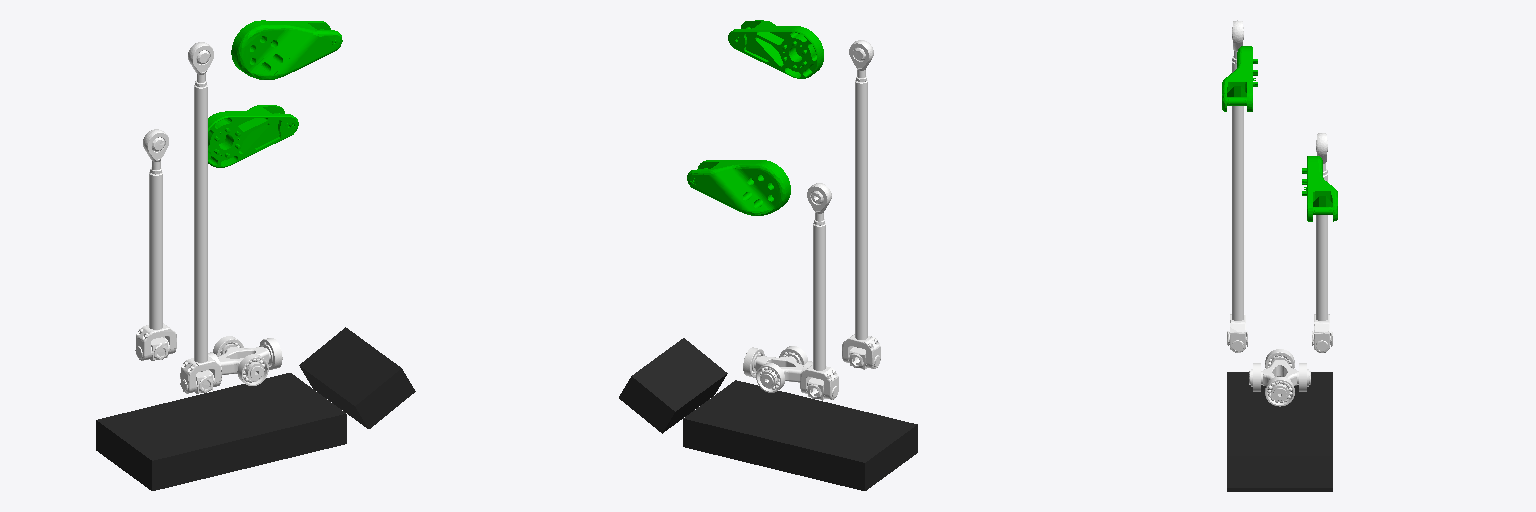
The robot description file, URDF, robot "DHAL":
<?xml version='1.0' encoding='utf-8'?>
<robot name="DHAL" xmlns:xacro="http://www.ros.org/wiki/xacro">
    <!--
  CURRENT CALIBRATION 2026-10-08: measured whole robot 17.100 kg.
  L_leg 10.420 kg, measured upper INCLUDING switch/cables 2.550 kg,
  measured battery 3.100 kg. Lower EXCLUDING battery inferred by subtraction
  = 1.030 kg, consisting of known 0.642 kg and unknown residual 0.388 kg.
  Complete lower = 4.130 kg; Body_Nature = 6.680 kg.
  Previous whole-robot global multiplier is REMOVED. Battery and measured leg
  are preserved. Residual 0.388 kg is separately recorded and distributed
  proportionally over known NONBATTERY lower mass priors only. This does not
  identify the missing hardware or independently measure the lower assembly.
  Upper internal residual now 0.211 kg is already inside its 2.550 kg total.
  Upper COM retained at -0.00598086124402 0.00904413219869 0.162821968949 m by assumption:
  added 22 g location is unmeasured. Upper central CAD tensor recomputed;
  Body COM and central tensor recombined by the parallel-axis theorem.
  CAD/straight cable priors, finite support-line and Z-datum uncertainties
  remain. No joint/nominal/rotor/limit/collision/mesh changes in this revision.
  See calibration/lower_residual_mass_allocation.json and nature_mass_model.json.
-->
    <material name="black">
        <color rgba="0.0 0.0 0.0 1.0" />
    </material>
    <material name="blue">
        <color rgba="0.0 0.0 0.8 1.0" />
    </material>
    <material name="green">
        <color rgba="0.0 0.8 0.0 1.0" />
    </material>
    <material name="grey">
        <color rgba="0.2 0.2 0.2 1.0" />
    </material>
    <material name="silver">
        <color rgba="0.913725490196 0.913725490196 0.847058823529 1.0" />
    </material>
    <material name="orange">
        <color rgba="1.0 0.423529411765 0.0392156862745 1.0" />
    </material>
    <material name="brown">
        <color rgba="0.870588235294 0.811764705882 0.764705882353 1.0" />
    </material>
    <material name="red">
        <color rgba="0.8 0.0 0.0 1.0" />
    </material>
    <material name="white">
        <color rgba="1.0 1.0 1.0 1.0" />
    </material>
    <link name="Thigh">
        <!-- NATURE 2026-10-01: L_leg proportional correction 1.000799913507194218; previous effective mass 4.554682270893658363 kg. COM unchanged, all six central tensor entries scaled with mass. -->
        <!-- LEGACY baseline distribution: Thigh repartition remains pending.
             2026-09-16: received input assembly, long link, six M5 bolts,
             two output-fixed CUG pins, and YT2015 bearing properties.
             Reported assembly poses differ from the earlier STEP reference;
             CUG4-10 <2> duplicated <3>, now corrected by the user;
             physical output pins are <3>/<4> (2.10 g total).
             Reconcile poses and rigid-body boundaries before repartition.
             See calibration/thigh_partition_20260916.json and .md.
             This historical partition note does not supply new baseline values. -->
        <visual>
            <origin rpy="0 0 0" xyz="0 0 0" />
            <geometry>
                <mesh filename="URDF_Thigh_with_Link_verHopping1_Simplified.dae" scale="1 1 1" />
            </geometry>
            <material name="grey" />
        </visual>
        <collision>
            <origin rpy="0 0 0" xyz="0 -0.04 -0.14" />
            <geometry>
                <box size="0.1 0.02 0.26" />
            </geometry>
        </collision>
        <collision>
            <origin rpy="0 0 0" xyz="0 0.06 -0.14" />
            <geometry>
                <box size="0.1 0.06 0.26" />
            </geometry>
        </collision>
        <inertial>
            <origin rpy="0 0 0" xyz="0.001815 0.027609 -0.115412" />
            <mass value="4.558325622763124235" />
            <inertia ixx="0.081938831543031790928552" ixy="-0.000031874545465390997509" ixz="-0.001379105333802583825535" iyy="0.080967720391186211871125" iyz="-0.013694367216780818896241" izz="0.015772587581124311933796" />
        </inertial>
    </link>
    <joint name="00_knee_joint" type="revolute">
        <origin rpy="0 0 0" xyz="0 0 -0.2523" />
        <parent link="Thigh" />
        <child link="Calf" />
        <axis xyz="0 1 0" />
        <!-- PROVISIONAL D151 output-axis equivalent inertia:
             motor/sun/encoder ring and two sun-locking LPSTAG pins at 20x;
             carrier, four carrier-locking LPSTAG pins, and eight carrier-fixed
             fasteners (4x M3_10 + 4x M4_12) at 5x;
             four compound planets (26.4 mm orbit at 5x and spin at -10x),
             the clean three-part output group and two output-fixed LPSTAG pins
             at 1x, and the exact orbital term of eight MTA planet bearings at 5x.
             Bearing race/cage/ball self-rotation and remaining output-side fasteners
             remain pending; the mixed 201.80 g 4-C selection is excluded. -->
        <dynamics rotor_inertia="0.37825873418" damping="0" friction="0" />
        <!-- PROVISIONAL measured motor-side envelope: the static test reached
             27.5166 N*m (mean absolute CW/CCW endpoint) at 110 A and stopped
             before the true peak. effort=550.3 N*m uses 27.5166*20 without
             gearbox-efficiency derating;
             velocity=10.11 rad/s retains the 65.1 V estimate pending speed/Kv data. -->
        <limit effort="550.3" velocity="10.11" lower="0" upper="2.26893" />
    </joint>
    <link name="Calf">
        <!-- NATURE 2026-10-01: L_leg proportional correction 1.000799913507194218; previous effective mass 3.630464754956549052 kg. COM unchanged, all six central tensor entries scaled with mass. -->
        <visual>
            <origin rpy="0 0 0" xyz="0 0 0" />
            <geometry>
                <mesh filename="URDF_Calf_verHopping1_Simplified.dae" scale="1 1 1" />
            </geometry>
            <material name="grey" />
        </visual>
        <collision>
            <origin rpy="0 0 0" xyz="0 0 -0.205" />
            <geometry>
                <box size="0.1 0.048 0.32" />
            </geometry>
        </collision>
        <!-- PROVISIONAL CAD occurrence boundary: COM-centered SolidWorks tensor,
             converted from positive-product notation into the URDF link frame. -->
        <inertial>
            <origin rpy="0 0 0" xyz="0.003950 0.000010 -0.144090" />
            <mass value="3.633368812751431343" />
            <inertia ixx="0.033405635176879234503787" ixy="-0.000001624454335098186797" ixz="-0.000799580091647820443157" iyy="0.036689444625636574247428" iyz="0.000912665315914783351184" izz="0.005040104298794931677072" />
        </inertial>
    </link>
    <joint name="01_ankle_pitch_joint" type="revolute">
        <origin rpy="0 0 0" xyz="0 0 -0.41" />
        <parent link="Calf" />
        <child link="Universal" />
        <axis xyz="0 1 0" />
        <limit lower="-0.872665" upper="0.698132" />
    </joint>
    <link name="Universal">
        <!-- NATURE 2026-10-01: L_leg proportional correction 1.000799913507194218; previous effective mass 0.222483794525813485 kg. COM unchanged, all six central tensor entries scaled with mass. -->
        <visual>
            <origin rpy="0 0 0" xyz="0 0 0" />
            <geometry>
                <mesh filename="URDF_Universal_verHopping1_Simplified.dae" scale="1 1 1" />
            </geometry>
            <material name="white" />
        </visual>
        <!-- CONFIRMED four-bearing Universal assembly. SolidWorks default X/Y
             map to URDF Y/X; the old ixx=0.00048 was a decimal-place error. -->
        <inertial>
            <origin rpy="0 0 0" xyz="0 0 0" />
            <mass value="0.222661762318186506" />
            <inertia ixx="0.000050839995640935037199" ixy="0.000000000000000000000000" ixz="0.000000000000000000000000" iyy="0.000094595257310974594309" iyz="0.000000000000000000000000" izz="0.000131384464567734810478" />
        </inertial>
    </link>
    <joint name="02_ankle_roll_joint" type="revolute">
        <origin rpy="0 0 0" xyz="0 0 0" />
        <parent link="Universal" />
        <child link="Foot" />
        <axis xyz="1 0 0" />
        <limit lower="-0.523599" upper="0.523599" />
    </joint>
    <link name="Foot">
        <!-- NATURE 2026-10-01: L_leg proportional correction 1.000799913507194218; previous effective mass 1.106072514819988164 kg. COM unchanged, all six central tensor entries scaled with mass. -->
        <!--        <visual>-->
        <!--            <origin rpy="0 0 0" xyz="0 0 0"/>-->
        <!--            <geometry>-->
        <!--                <mesh filename="URDF_Foot_verHopping1_Simplified.dae" scale="1 1 1"/>-->
        <!--            </geometry>-->
        <!--            <material name="grey"/>-->
        <!--        </visual>-->
        <!--        <collision>-->
        <!--            <origin rpy="0 0 0" xyz="0 0 -0.065"/>-->
        <!--            <geometry>-->
        <!--&lt;!&ndash;                <box size="0.24 0.08 0.03"/>&ndash;&gt;-->
        <!--                <box size="0.265 0.10 0.03"/>-->
        <!--            </geometry>-->
        <!--        </collision>-->
        <!--        <inertial>-->
        <!--            <origin rpy="0 0 0" xyz="-0.014103 -0.0000 -0.044208"/>-->
        <!--&lt;!&ndash;            <mass value="0.899532"/>&ndash;&gt;-->
        <!--            <mass value="1.0"/>-->
        <!--&lt;!&ndash;            <inertia ixx="0.002914" ixy="0.000001" ixz="0.000081" iyy="0.005654" iyz="0" izz="0.003715"/>&ndash;&gt;-->
        <!--            <inertia ixx="0.0032" ixy="0.000001" ixz="0.0001" iyy="0.005654" iyz="0" izz="0.0040"/>-->
        <!--        </inertial>-->
        <visual>
            <origin rpy="0 0 0" xyz="-0.02 0 -0.065" />
            <geometry>
                <box size="0.20 0.1 0.03" />
            </geometry>
            <material name="grey" />
        </visual>
        <visual>
            <origin rpy="0 -0.5 0" xyz="0.12 0 -0.045" />
            <geometry>
                <box size="0.055 0.1 0.03" />
            </geometry>
            <material name="grey" />
        </visual>
        <collision>
            <origin rpy="0 0 0" xyz="-0.02 0 -0.065" />
            <geometry>
                <box size="0.20 0.1 0.03" />
            </geometry>
        </collision>
        <collision>
            <origin rpy="0 -0.5 0" xyz="0.12 0 -0.045" />
            <geometry>
                <box size="0.055 0.1 0.03" />
            </geometry>
        </collision>
        <!-- CONFIRMED measurement scope: 0.837 kg includes foot_2, eight bolts,
             and the attached tire/rubber outsole. Bolts alone weigh 0.048 kg;
             0.789 kg therefore means foot_2 PLUS outsole, not the bare part.
             Baseline Foot mass = 0.929141 - 0.724284 + 0.837 = 1.041857 kg.
             Do not add outsole mass again. The 0.112716 kg CAD-to-measured
             difference is not an independent measurement of outsole mass.
             PROVISIONAL COM/tensor: earlier mass-distribution estimate retained.
             Outsole distribution and CAD-report-to-link frame remain to be
             reconciled; outsole presence alone does not determine a new COM.
             Existing collision boxes retain their 6.35 mm sole allowance. -->
        <inertial>
            <origin rpy="0 0 0" xyz="0.00320582 -0.00032194 -0.03596666" />
            <mass value="1.106957277164528949" />
            <inertia ixx="0.001479457803390062807205" ixy="-0.000019588671913331852938" ixz="-0.000229993832137044931594" iyy="0.005999883220989382134718" iyz="-0.000012112252902909159808" izz="0.006205220243485310137062" />
        </inertial>
    </link>
    <joint name="03_left_ankle_link_pitch_joint" type="continuous">
        <origin rpy="0 0 0" xyz="-0.0640125 0.04 0.0112871" />
        <parent link="Foot" />
        <child link="Left_Dice" />
        <axis xyz="0 1 0" />
    </joint>
    <link name="Left_Dice">
        <!-- NATURE 2026-10-01: L_leg proportional correction 1.000799913507194218; previous effective mass 0.040250853357884077 kg. COM unchanged, all six central tensor entries scaled with mass. -->
        <visual>
            <origin rpy="0 0 0" xyz="0 0 0" />
            <geometry>
                <mesh filename="URDF_Calf_Link_Dice_verHopping1_Simplified.dae" scale="1 1 1" />
            </geometry>
            <material name="white" />
        </visual>
        <inertial>
            <origin rpy="0 0 0" xyz="0 0 0" />
            <mass value="0.040283050559161142" />
            <inertia ixx="0.000002124969697692733167" ixy="0.000000000000000000000000" ixz="0.000000000000000000000000" iyy="0.000004249939395385466335" iyz="0.000000000000000000000000" izz="0.000004249939395385466335" />
        </inertial>
    </link>
    <joint name="04_left_ankle_link_roll_joint" type="continuous">
        <origin rpy="0 0 0" xyz="0 0 0" />
        <parent link="Left_Dice" />
        <child link="Left_Ankle_Link" />
        <axis xyz="1 0 0" />
    </joint>
    <link name="Left_Ankle_Link">
        <!-- NATURE 2026-10-01: L_leg proportional correction 1.000799913507194218; previous effective mass 0.228403731934666190 kg. COM unchanged, all six central tensor entries scaled with mass. -->
        <!-- 2026-09-14: V1 mesh endpoint separation matches supplied STEP and
             physical measurement: 202 mm. Same mesh frame and scale as before. -->
        <visual>
            <origin rpy="0 0 0" xyz="0 0 0" />
            <geometry>
                <mesh filename="URDF_Calf_Link_S_verV1_simplified.dae" scale="1 1 1" />
            </geometry>
            <material name="white" />
        </visual>
        <!-- MEASURED BASE-ROD MASS APPLIED AND CAD CHECKED (2026-09-21):
             S rod = 0.123 kg; confirmed part: calf_link_S_1_verU1.
             User corrected the earlier Drawing/Hopping name. New AISI 1045
             SolidWorks part volume and inertia match the supplied STEP at
             displayed precision; whole-assembly steel reports also reconcile
             within propagated report rounding. Numerical calibration retained.
             Only the base-rod mass contribution was replaced; other hardware
             and separate Dice properties remain. Inertia uses measured mass
             uniformly distributed over the confirmed CAD geometry.
             Dice/bushing partition is still provisional; actual S45C grade is
             not established by weighing. See
             calibration/sl_steel_cad_confirmation_20260921.md. -->
        <inertial>
            <origin rpy="0 0 0" xyz="0.000016013145 0 0.088949725571" />
            <mass value="0.228586435164934297" />
            <inertia ixx="0.001005708842566924442842" ixy="0.000000000201872121280810" ixz="0.000000241099305209247891" iyy="0.001012597233306134024828" iyz="0.000000009881109094271209" izz="0.000012149992122493637211" />
        </inertial>
    </link>
    <joint name="05_right_ankle_link_pitch_joint" type="continuous">
        <origin rpy="0 0 0" xyz="-0.0640125 -0.04 0.0112871" />
        <parent link="Foot" />
        <child link="Right_Dice" />
        <axis xyz="0 1 0" />
    </joint>
    <link name="Right_Dice">
        <!-- NATURE 2026-10-01: L_leg proportional correction 1.000799913507194218; previous effective mass 0.040250853357884077 kg. COM unchanged, all six central tensor entries scaled with mass. -->
        <visual>
            <origin rpy="0 0 0" xyz="0 0 0" />
            <geometry>
                <mesh filename="URDF_Calf_Link_Dice_verHopping1_Simplified.dae" scale="1 1 1" />
            </geometry>
            <material name="white" />
        </visual>
        <inertial>
            <origin rpy="0 0 0" xyz="0 0 0" />
            <mass value="0.040283050559161142" />
            <inertia ixx="0.000002124969697692733167" ixy="0.000000000000000000000000" ixz="0.000000000000000000000000" iyy="0.000004249939395385466335" iyz="0.000000000000000000000000" izz="0.000004249939395385466335" />
        </inertial>
    </link>
    <joint name="06_right_ankle_link_roll_joint" type="continuous">
        <origin rpy="0 0 0" xyz="0 0 0" />
        <parent link="Right_Dice" />
        <child link="Right_Ankle_Link" />
        <axis xyz="1 0 0" />
    </joint>
    <link name="Right_Ankle_Link">
        <!-- NATURE 2026-10-01: L_leg proportional correction 1.000799913507194218; previous effective mass 0.337752402591640135 kg. COM unchanged, all six central tensor entries scaled with mass. -->
        <!-- 2026-09-14: V1 mesh endpoint separation matches supplied STEP and
             physical measurement: 320 mm. Same mesh frame and scale as before. -->
        <visual>
            <origin rpy="0 0 0" xyz="0 0 0" />
            <geometry>
                <mesh filename="URDF_Calf_Link_L_verV1_simplified.dae" scale="1 1 1" />
            </geometry>
            <material name="white" />
        </visual>
        <!-- MEASURED BASE-ROD MASS APPLIED AND CAD CHECKED (2026-09-21):
             L rod = 0.226 kg; confirmed part: calf_link_L_1_verU1.
             User corrected the earlier Drawing/Hopping name. New AISI 1045
             SolidWorks part volume and inertia match the supplied STEP at
             displayed precision; whole-assembly steel reports also reconcile
             within propagated report rounding. Numerical calibration retained.
             Only the base-rod mass contribution was replaced; other hardware
             and separate Dice properties remain. Inertia uses measured mass
             uniformly distributed over the confirmed CAD geometry.
             Dice/bushing partition is still provisional; actual S45C grade is
             not established by weighing. See
             calibration/sl_steel_cad_confirmation_20260921.md. -->
        <inertial>
            <origin rpy="0 0 0" xyz="0.000006547015 0 0.146213079947" />
            <mass value="0.338022575300560487" />
            <inertia ixx="0.003479817406199723828252" ixy="0.000000000201872121280810" ixz="0.000000371559836139880448" iyy="0.003486704855001490544282" iyz="-0.000000000201872121280810" izz="0.000014119266197798484734" />
        </inertial>
    </link>
    <joint name="07_left_ankle_link_input_joint" type="continuous">
        <origin rpy="0 0 0" xyz="0 0.0255 -0.205" />
        <parent link="Calf" />
        <child link="Left_Ankle_Link_Input" />
        <axis xyz="0 1 0" />
        <!-- CONFIRMED CAD-equivalent 5.2:1 drivetrain: motor/sun/encoder ring,
             4 planets, carrier/output, 4x M3_8 and 6x M3_6 output-fixed bolts.
             Internal bearing-race rotation remains unmodeled. -->
        <dynamics rotor_inertia="0.00611686196" damping="0" friction="0" />
        <!-- PROVISIONAL measured motor-side envelope: the static test reached
             approximately 16.52 N*m (mean absolute endpoint) at 60 A; the true
             peak was not established. effort=85.9 N*m uses 16.52*5.2 without
             gearbox-efficiency derating;
             velocity=18.3 rad/s retains the 65.1 V estimate pending speed/Kv data. -->
        <limit effort="85.9" velocity="18.3" />
    </joint>
    <link name="Left_Ankle_Link_Input">
        <!-- NATURE 2026-10-01: L_leg proportional correction 1.000799913507194218; previous effective mass 0.125655193422987799 kg. COM unchanged, all six central tensor entries scaled with mass. -->
        <visual>
            <origin rpy="0 0 0" xyz="0 0 0" />
            <geometry>
                <mesh filename="URDF_Calf_Link_Input_verHopping1_Simplified.dae" scale="1 1 1" />
            </geometry>
            <material name="green" />
        </visual>
        <inertial>
            <origin rpy="0 0 0" xyz="0.024120 0.013430 -0.001640" />
            <mass value="0.125755706709455949" />
            <inertia ixx="0.000025187287076448943159" ixy="-0.000007786749585073739882" ixz="-0.000004914534293187357096" iyy="0.000096476971102523951848" iyz="0.000001719971723009475153" izz="0.000090947959321854787101" />
        </inertial>
    </link>
    <joint name="08_right_ankle_link_input_joint" type="continuous">
        <origin rpy="0 0 0" xyz="0 -0.0255 -0.09" />
        <parent link="Calf" />
        <child link="Right_Ankle_Link_Input" />
        <axis xyz="0 1 0" />
        <!-- CONFIRMED CAD-equivalent 5.2:1 drivetrain: motor/sun/encoder ring,
             4 planets, carrier/output, 4x M3_8 and 6x M3_6 output-fixed bolts.
             Internal bearing-race rotation remains unmodeled. -->
        <dynamics rotor_inertia="0.00611686196" damping="0" friction="0" />
        <!-- PROVISIONAL measured motor-side envelope: the static test reached
             approximately 16.52 N*m (mean absolute endpoint) at 60 A; the true
             peak was not established. effort=85.9 N*m uses 16.52*5.2 without
             gearbox-efficiency derating;
             velocity=18.3 rad/s retains the 65.1 V estimate pending speed/Kv data. -->
        <limit effort="85.9" velocity="18.3" />
    </joint>
    <link name="Right_Ankle_Link_Input">
        <!-- NATURE 2026-10-01: L_leg proportional correction 1.000799913507194218; previous effective mass 0.125655193422987799 kg. COM unchanged, all six central tensor entries scaled with mass. -->
        <visual>
            <origin rpy="0 0 0" xyz="0 0 0" />
            <geometry>
                <mesh filename="URDF_Calf_Link_Input_mir_verHopping1_Simplified.dae" scale="1 1 1" />
            </geometry>
            <material name="green" />
        </visual>
        <inertial>
            <origin rpy="0 0 0" xyz="0.024120 -0.013430 -0.001640" />
            <mass value="0.125755706709455949" />
            <inertia ixx="0.000025187202077661035449" ixy="0.000007786675211134320636" ixz="-0.000004914523668338868633" iyy="0.000096476758605554182574" iyz="-0.000001719939848464009762" izz="0.000090947693700642575509" />
        </inertial>
    </link>
    <joint name="09_body_nature_joint" type="fixed">
        <origin xyz="0 0 0" rpy="0 0 0" />
        <parent link="Thigh" />
        <child link="Body_Nature" />
    </joint>
    <link name="Body_Nature">
        <visual>
            <origin xyz="0 0 0" rpy="0 0 0" />
            <geometry>
                <mesh filename="Body_Tethered_1_verNatureHop.dae" scale="1 1 1" />
            </geometry>
            <material name="grey" />
        </visual>
        <collision>
            <origin xyz="0 0 0.04992" rpy="0 0 0" />
            <geometry>
                <box size="0.224 0.202 0.12016" />
            </geometry>
        </collision>
        <collision>
            <origin xyz="0.01015 -6.93889390391e-18 0.1625" rpy="0 0 0" />
            <geometry>
                <box size="0.2443 0.208 0.105" />
            </geometry>
        </collision>
        <collision>
            <origin xyz="-0.0540639401127 0.0119678928145 0.2243" rpy="0 0 0" />
            <geometry>
                <box size="0.0554865092341 0.115465510276 0.0186" />
            </geometry>
        </collision>
        <inertial>
            <origin xyz="0.00743700079422 0.00102451090425 0.103944824038" rpy="0 0 0" />
            <mass value="6.680" />
            <inertia ixx="0.0410377995919171" ixy="0.000470496605335049" ixz="0.00398704731209185" iyy="0.0400872896716336" iyz="-0.00166396405871692" izz="0.0396425326763329" />
        </inertial>
    </link>
    <!-- Active calibrated closure: measured center-to-center lengths 202 mm / 320 mm.
             Forward-kinematics pin residual after rounding is below 1e-9 m. -->
    <constraints nominal_config="0.0, 0.0, 0.8, 0.99619470, 0.0, -0.08715574, 0.0,  0.349066, 0.0, 0.0,  0.64057070, -0.00247525, 0.40891126, 0.00156250, 0.51048313, 0.23438469">
        <pin body1="Left_Ankle_Link_Input" body2="Left_Ankle_Link" anchor="0.065 0.015 0.0" />
        <pin body1="Right_Ankle_Link_Input" body2="Right_Ankle_Link" anchor="0.065 -0.015 0.0" />
    </constraints>
</robot>

--- Facts derived from the render (not from the file) ---
The picture shows the robot from 3 angles, left to right: view 1: azimuth 30°, elevation 25°; view 2: azimuth 150°, elevation 25°; view 3: azimuth 270°, elevation 25°; orthographic projection.
Robot: DHAL — 11 links, 10 joints (3 revolute, 6 continuous, 1 fixed); root link Thigh; default pose: all joints at 0.
Links seen in each view (by area): view 1: Foot, Right_Ankle_Link, Right_Ankle_Link_Input, Left_Ankle_Link_Input, Left_Ankle_Link, Universal; view 2: Foot, Right_Ankle_Link, Left_Ankle_Link_Input, Right_Ankle_Link_Input, Left_Ankle_Link, Universal; view 3: Foot, Right_Ankle_Link, Universal, Left_Ankle_Link, Right_Ankle_Link_Input, Left_Ankle_Link_Input.
Link boxes in pixels (x1,y1,x2,y2): Foot: [96, 327, 415, 490]; Right_Ankle_Link: [180, 42, 221, 393]; Right_Ankle_Link_Input: [231, 20, 342, 79]; Left_Ankle_Link_Input: [208, 105, 298, 167]; Left_Ankle_Link: [135, 129, 176, 360]; Universal: [208, 336, 282, 385]; Foot: [619, 338, 917, 490]; Right_Ankle_Link: [842, 40, 880, 368]; Left_Ankle_Link_Input: [687, 160, 790, 215]; Right_Ankle_Link_Input: [728, 20, 823, 78]; Left_Ankle_Link: [800, 183, 838, 399]; Universal: [743, 346, 812, 392]; Foot: [1227, 372, 1332, 491]; Right_Ankle_Link: [1230, 20, 1245, 352]; Universal: [1249, 349, 1310, 406]; Left_Ankle_Link: [1314, 133, 1329, 352]; Right_Ankle_Link_Input: [1222, 46, 1257, 111]; Left_Ankle_Link_Input: [1302, 156, 1337, 221].
Size in the robot's own frame: 0.2713 by 0.111 by 0.425 metres.
Meshes: 9 distinct files referenced, 7 mesh visuals loaded (6 Collada DAE); not drawn: 3 (reference not matched to a file when rendering).
